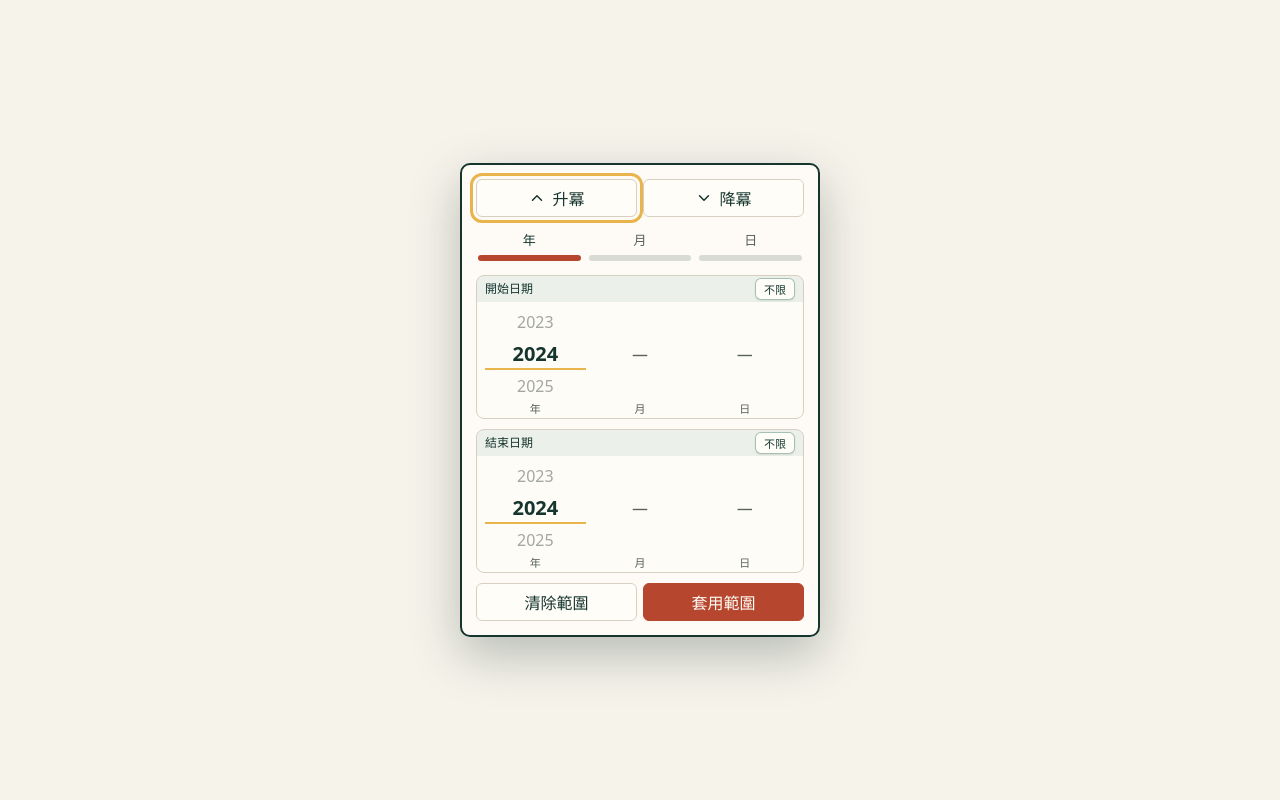
Test: workspace date range filter › accepts a direct year entry and prevents a reversed range
The image size is (1280, 800).
Click the option with class "selected" below "開始日期".
click(535, 354)  # box [485,338,586,370]
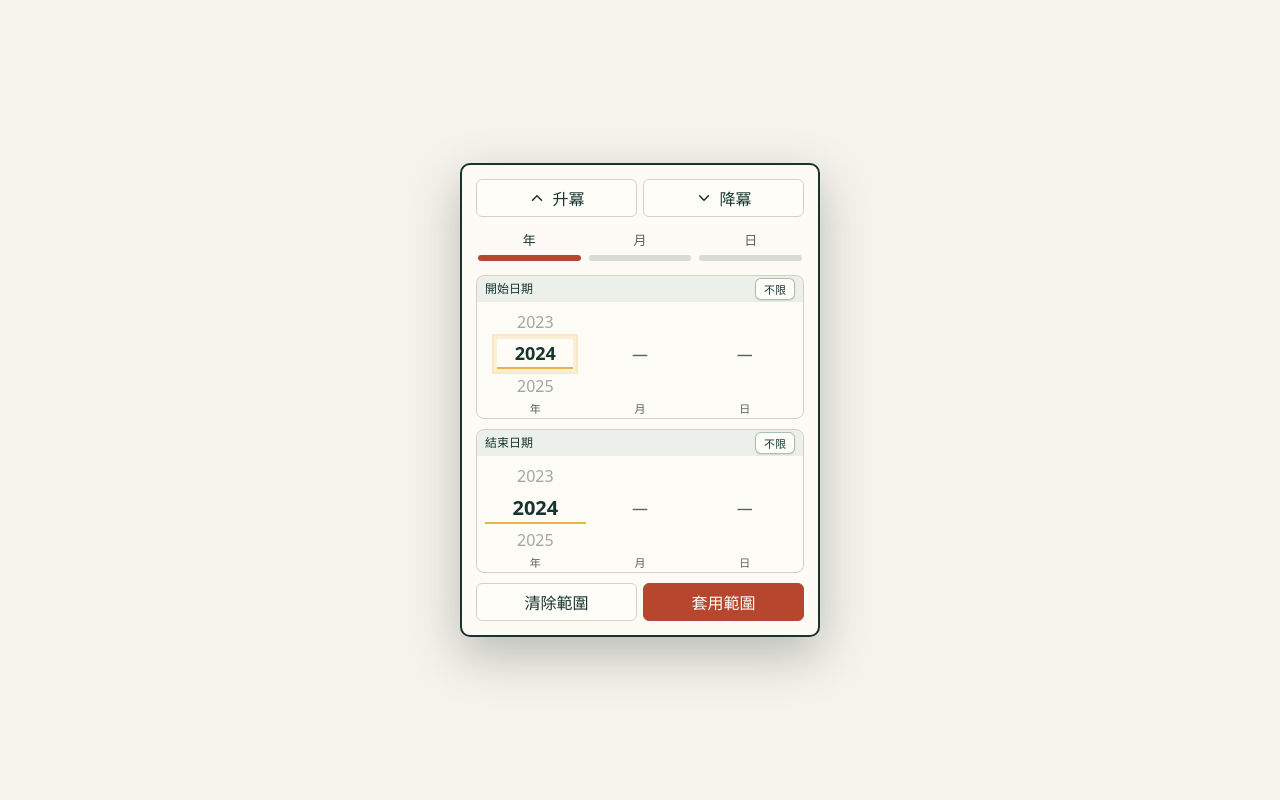
Replace the text in the number field named "輸入開始年份" with "2025" at (535, 354), box [497,339,573,369]
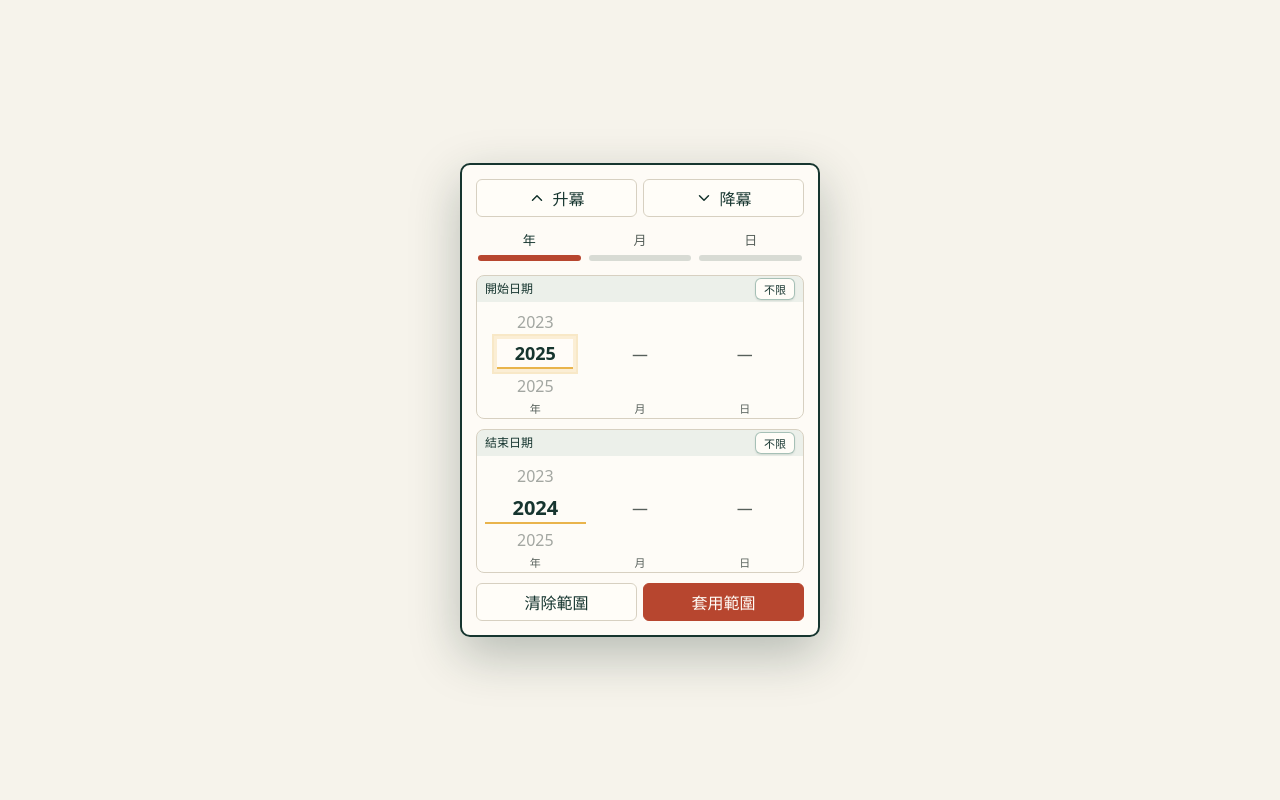
Press Enter in the number field named "輸入開始年份", box [497,339,573,369]
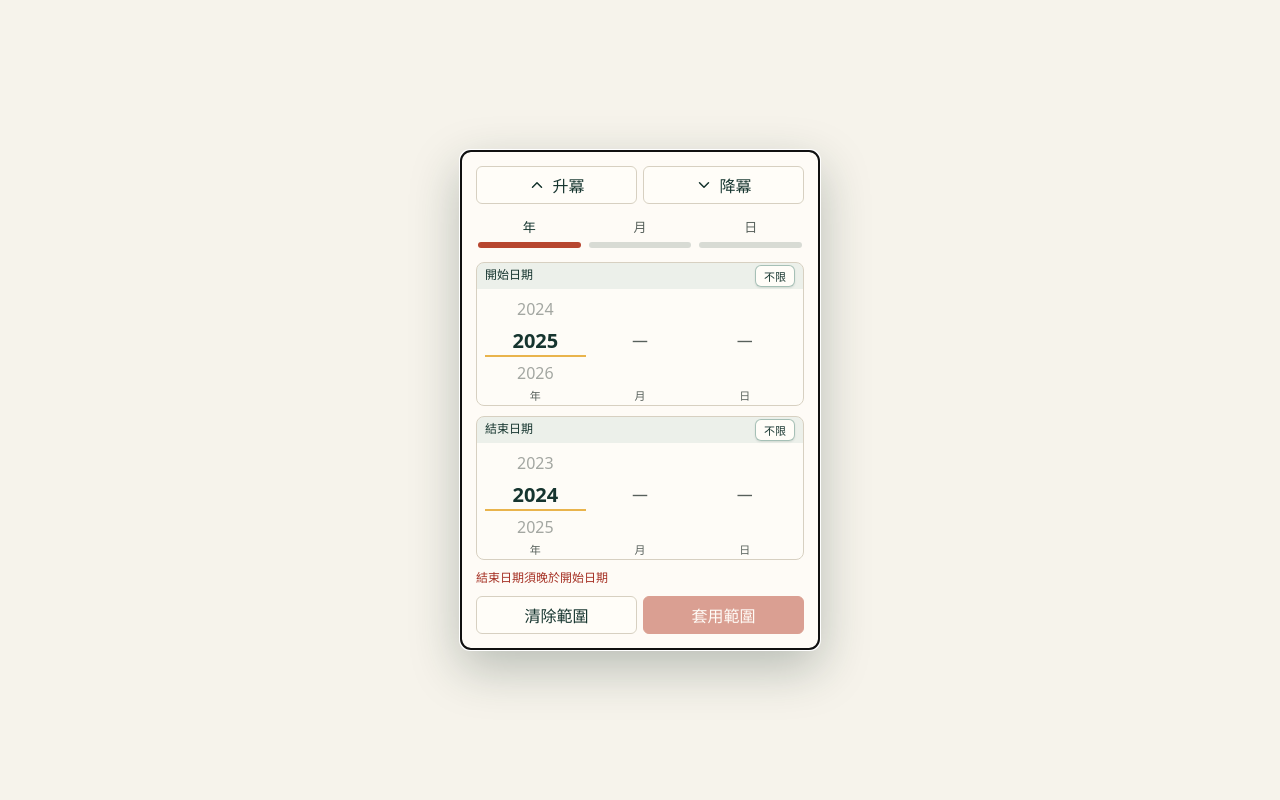
Expected: the message reads "結束日期須晚於開始日期", [476,569,608,586]
Expected: the button "套用範圍" is disabled, [643,596,804,634]
